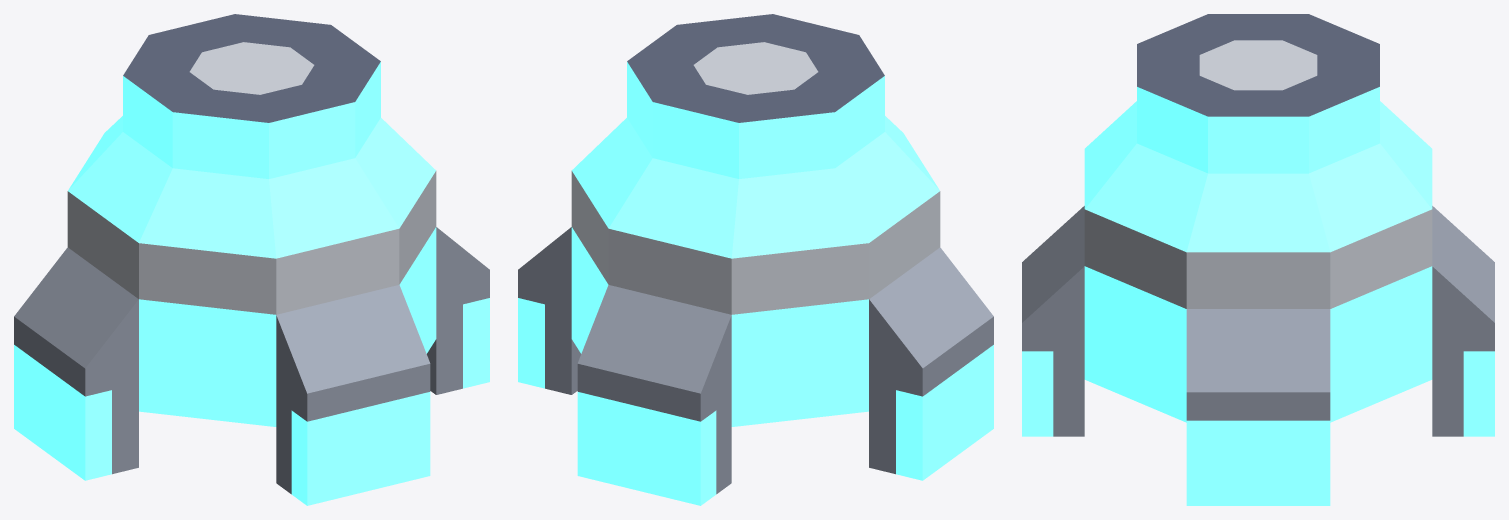
File: machine_barrelLarge.glb
3 renders of one model, left to right at view 1: azimuth 30°, elevation 25°; view 2: azimuth 150°, elevation 25°; view 3: azimuth 270°, elevation 25°, orthographic.
Visible parts, largest first — view 1: machine_barrelLarge; view 2: machine_barrelLarge; view 3: machine_barrelLarge.
Part boxes in pixels (x1=…): machine_barrelLarge: x1=14, y1=14, x2=489, y2=505; machine_barrelLarge: x1=518, y1=14, x2=993, y2=505; machine_barrelLarge: x1=1022, y1=14, x2=1494, y2=505.
Bounding box in the file's own units: 0.7543 × 0.6 × 0.7543.
